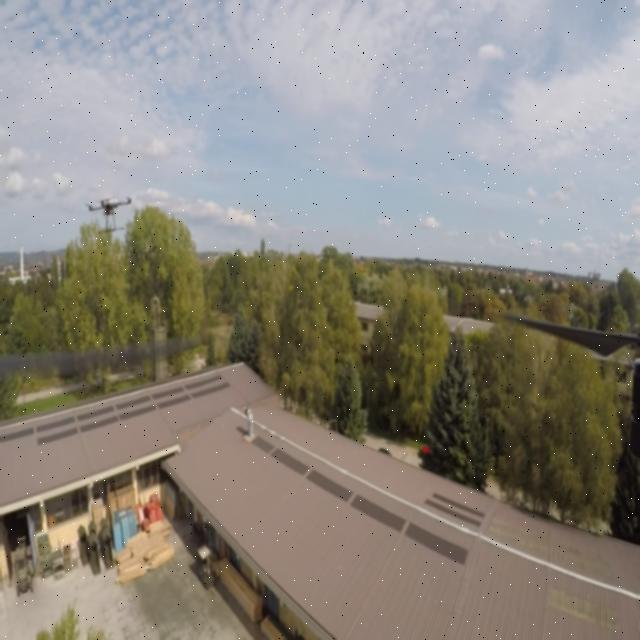UAV: (85, 191, 137, 226)
